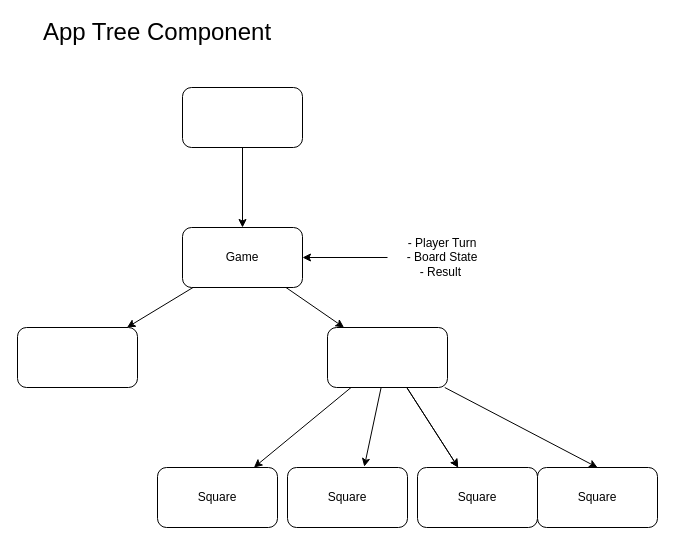
This 675x545 diagram has some shape labels left out. The shapes that lost their labels are listed below. From the top down, each one's centre as x and y in pixels, then its label:
At [242,117]: "App".
At [77,357]: "Result".
At [387,357]: "Board".
